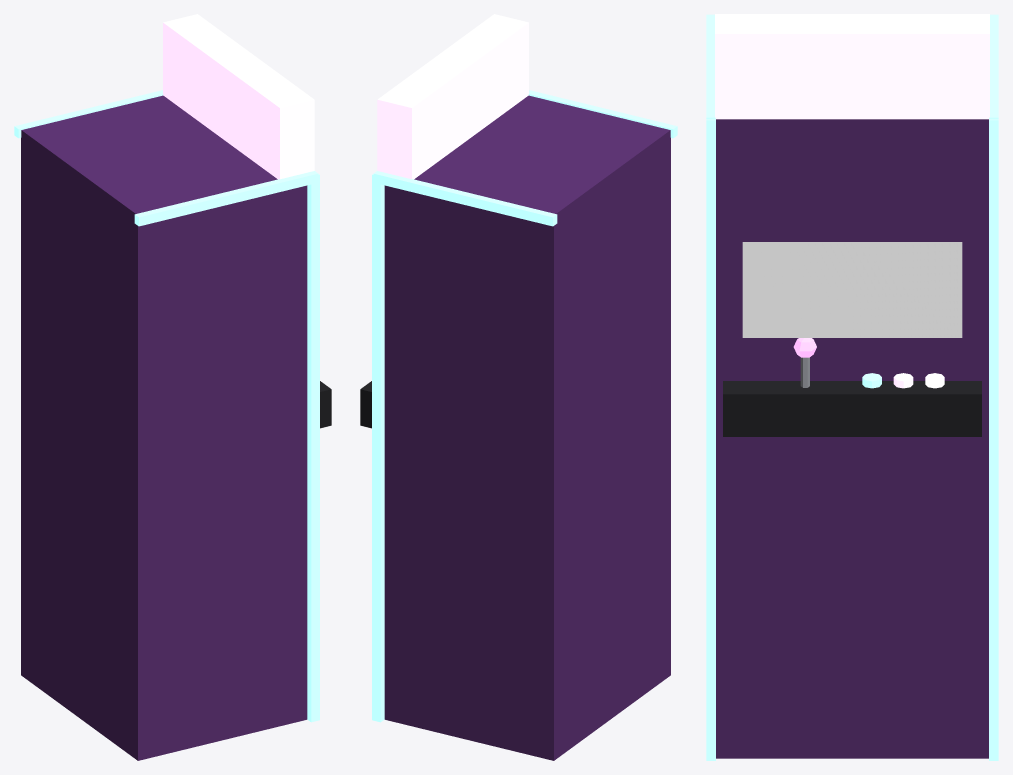
File: SM_ArcadeCabinet.fbx
3 renders of one model, left to right at view 1: azimuth 30°, elevation 25°; view 2: azimuth 150°, elevation 25°; view 3: azimuth 270°, elevation 25°, orthographic. The views are drawn at different scales.
Visible parts, largest first — view 1: SM_ArcadeCabinet; view 2: SM_ArcadeCabinet; view 3: SM_ArcadeCabinet.
Boxes of the visible parts, left/top/right/bottom form: SM_ArcadeCabinet: left=14, top=14, right=331, bottom=760; SM_ArcadeCabinet: left=360, top=14, right=677, bottom=760; SM_ArcadeCabinet: left=706, top=14, right=998, bottom=760.
Size of the model in its own units: 69 by 204 by 74.5.
